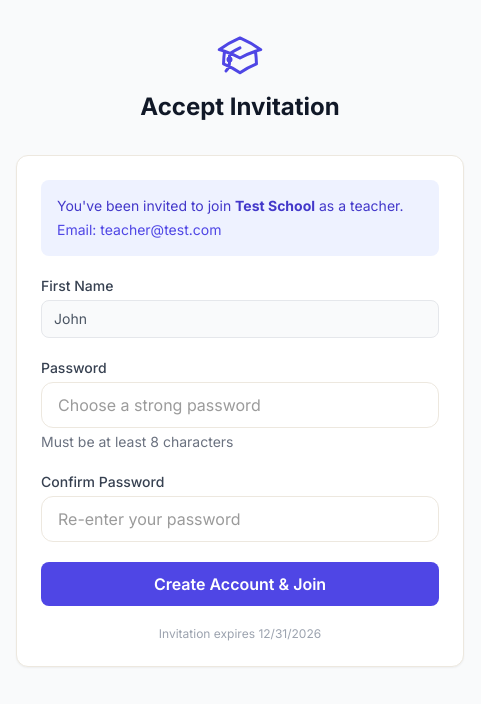
Scenario: AcceptInvitationPage › submission error › shows server error message when acceptInvitation fails
Expected: the text "Test School" is shown, x1=235 y1=197 x2=315 y2=214
Type "StrongPass123!" into the password field with placeholder "Choose a strong password".
click(240, 405); type("StrongPass123!")  # box x1=41 y1=382 x2=439 y2=428
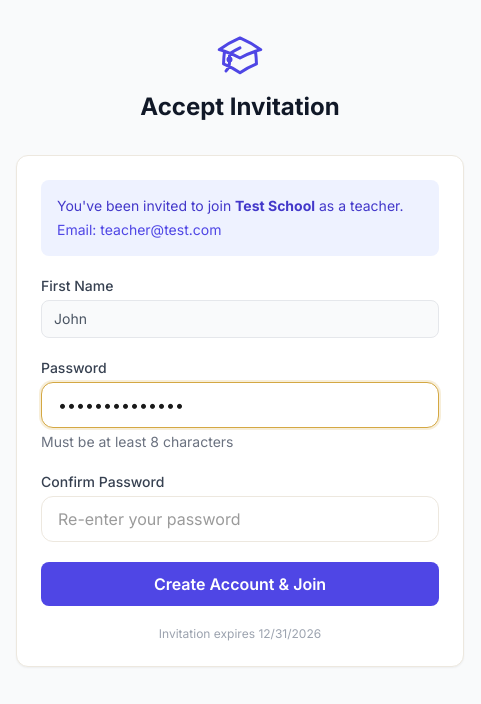
Type "StrongPass123!" into the password field with placeholder "Re-enter your password".
click(240, 519); type("StrongPass123!")  # box x1=41 y1=496 x2=439 y2=542
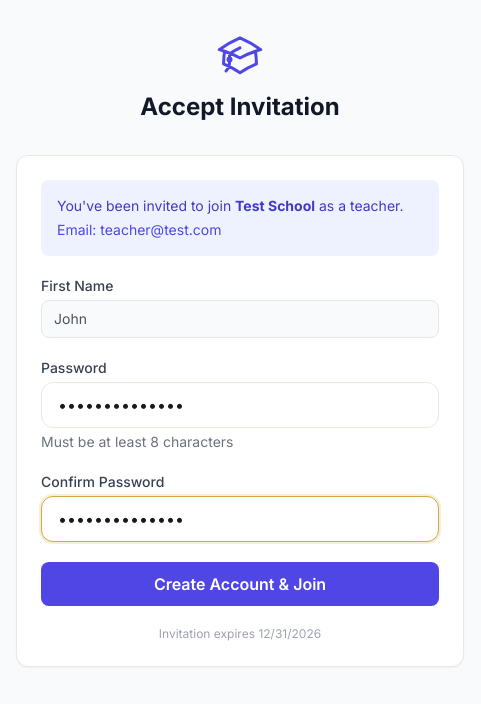
Click the button "Create Account & Join".
click(240, 584)  # box x1=41 y1=562 x2=439 y2=606
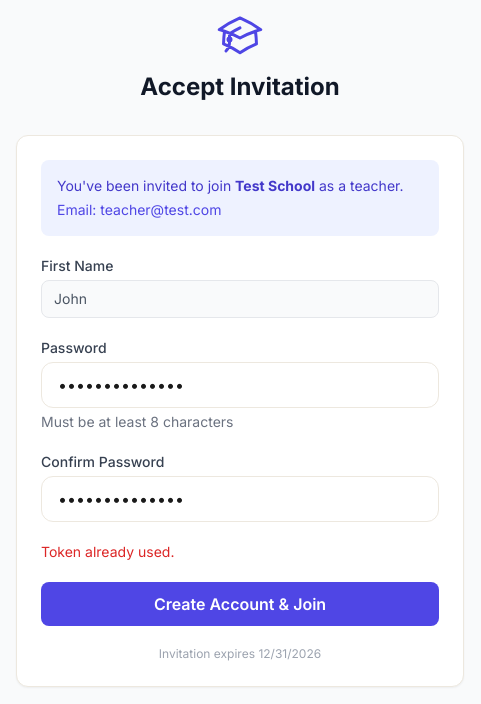
Expected: the text "Token already used." is shown, x1=41 y1=543 x2=174 y2=560
